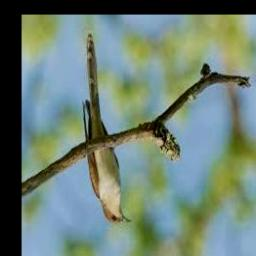Cuckoo: (82, 34, 133, 224)
